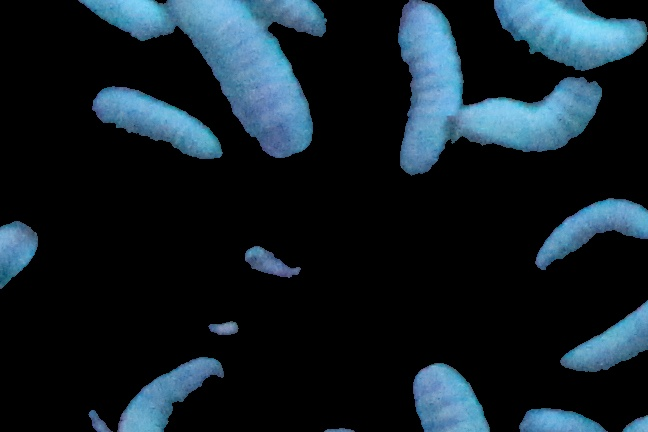larvae: (165, 1, 318, 157), (395, 1, 466, 177), (453, 74, 601, 157), (491, 1, 647, 74), (87, 88, 224, 164), (528, 197, 648, 281), (120, 351, 229, 432), (556, 301, 648, 378), (408, 356, 490, 432), (64, 1, 178, 41), (1, 208, 40, 306), (255, 1, 330, 37)
